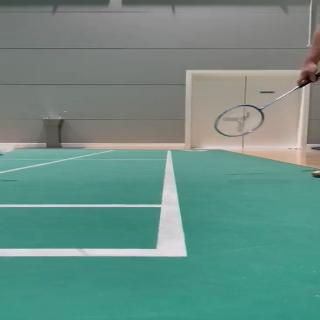Shuttle: (0, 143, 14, 155)
